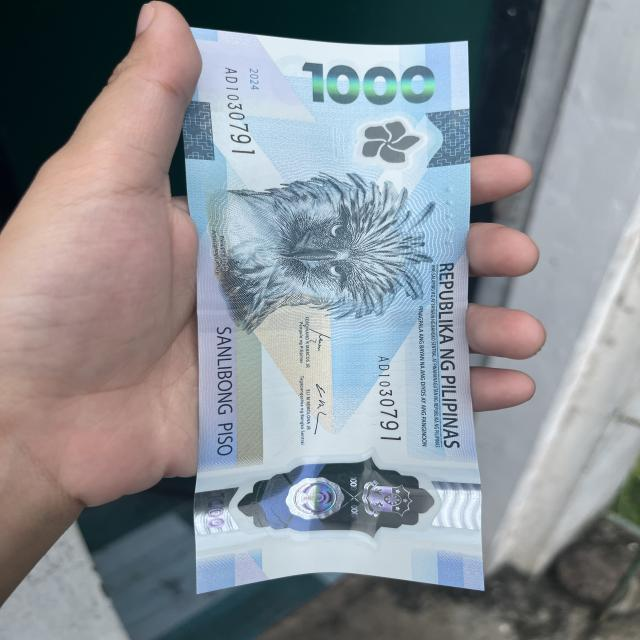clear_window: (197, 449, 482, 557)
eagle: (199, 168, 436, 328)
sampaguita: (329, 114, 432, 172)
security_thread: (197, 312, 465, 332)
serial_number: (222, 65, 256, 155), (374, 355, 406, 445)
